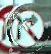Don't turn right: (0, 2, 49, 52)
